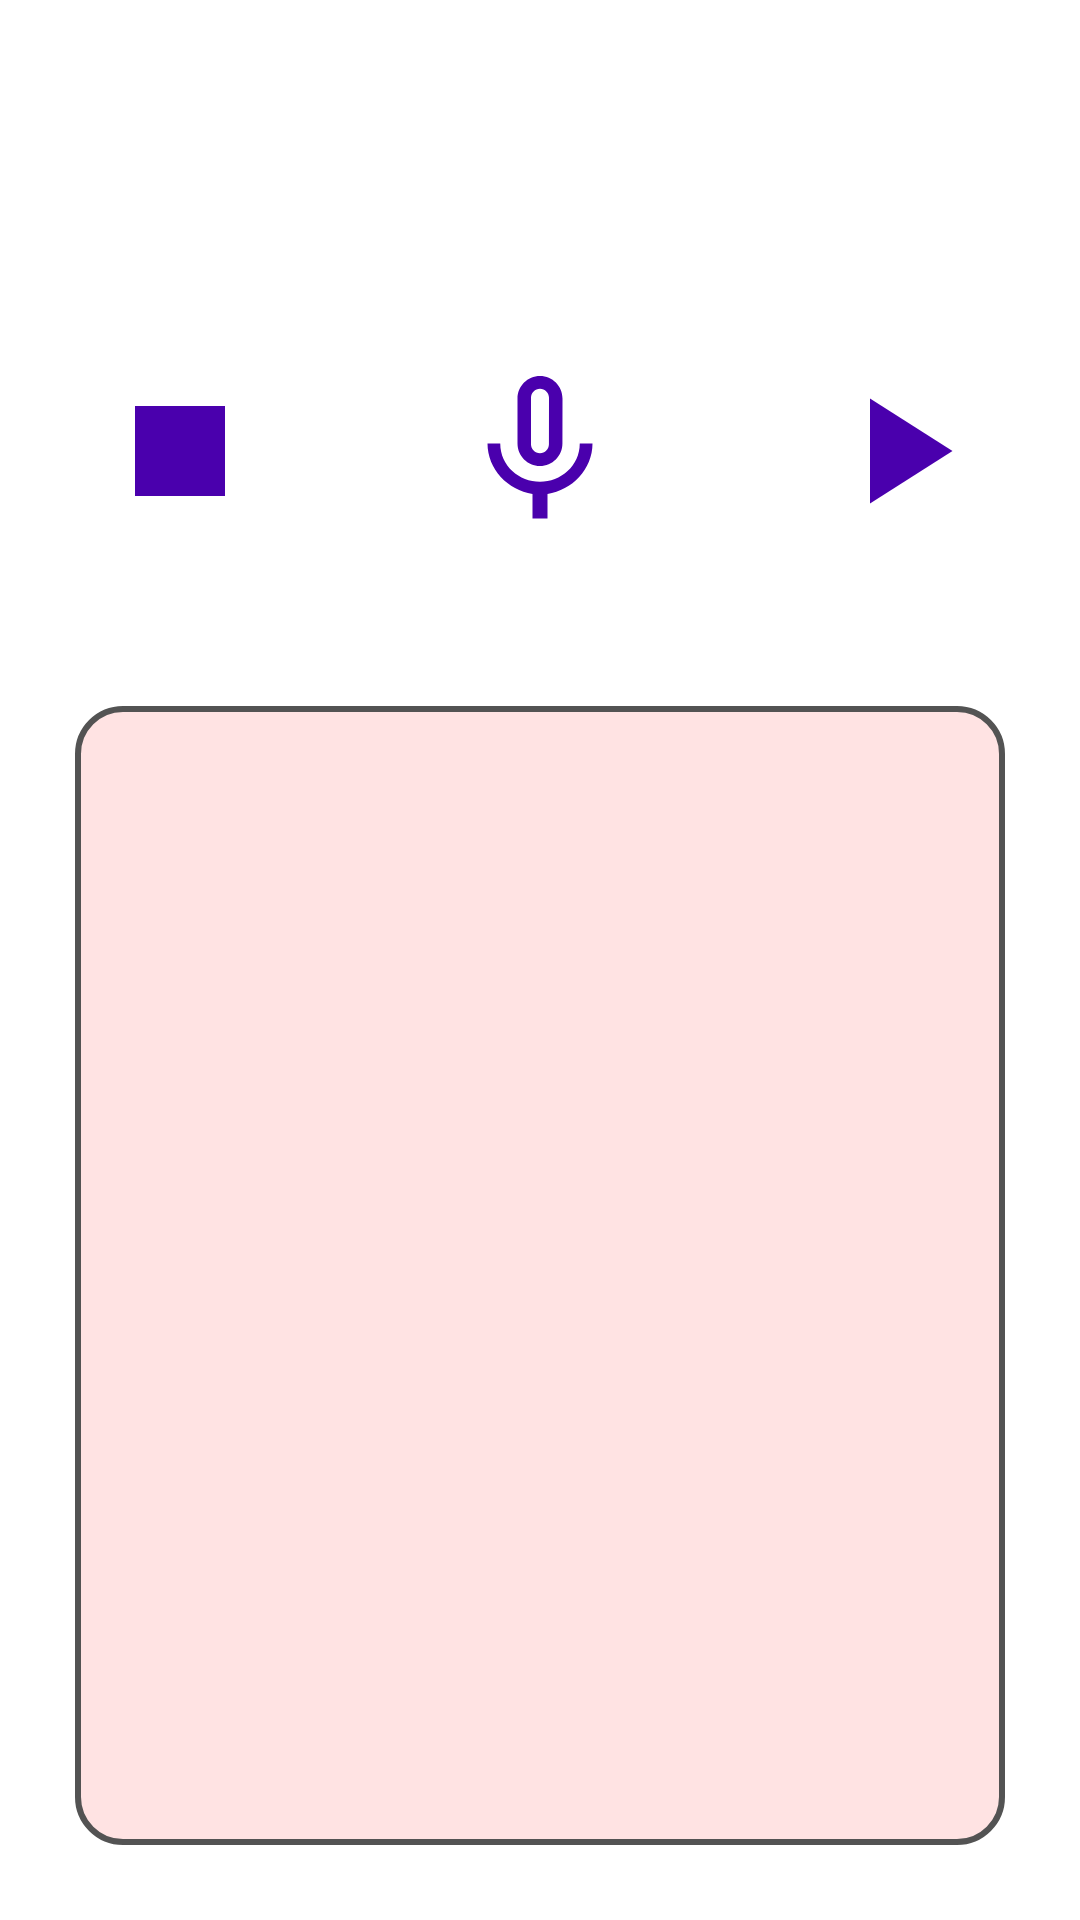

Where to tap for icons on this 1080*1920 app screen, as (x=x, y=y):
mic none: (x=540, y=447)
play arrow: (x=911, y=451)
